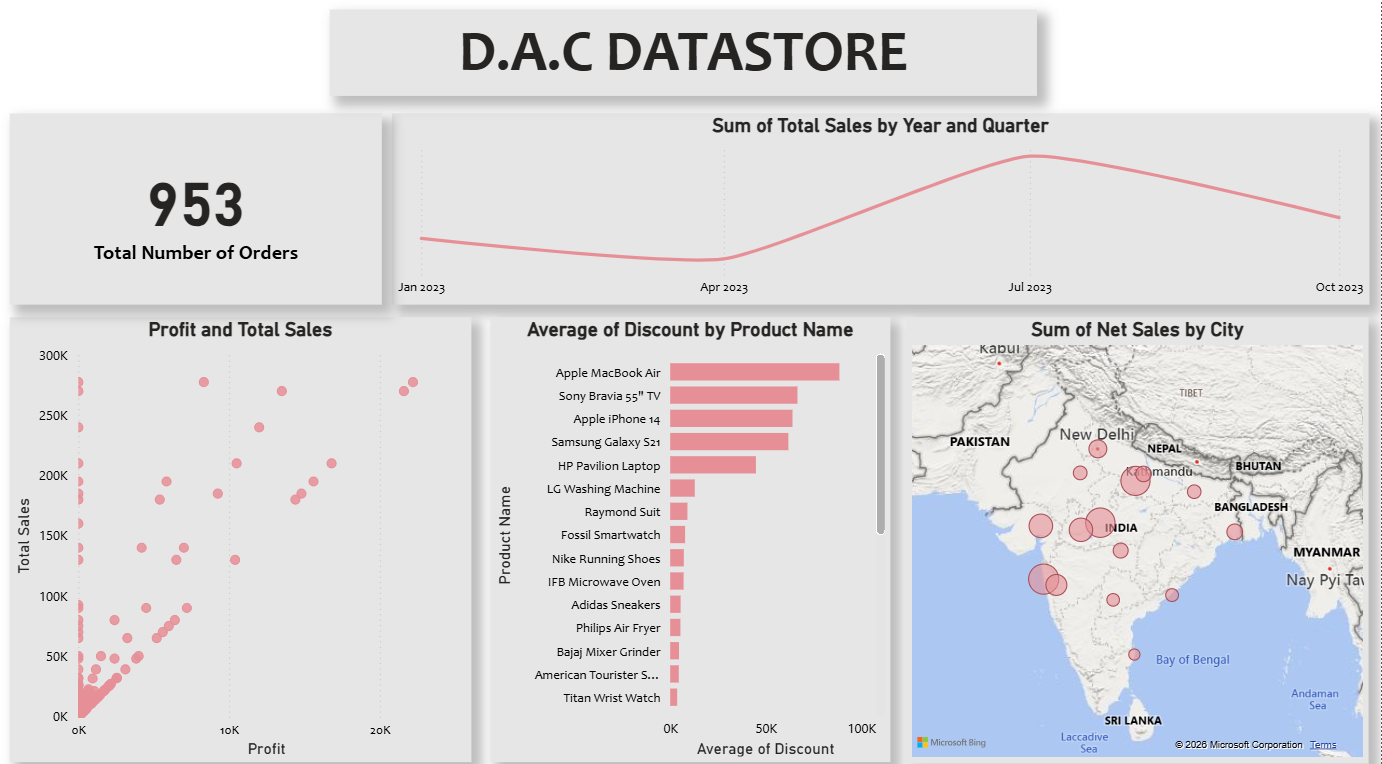

The page's visual inventory and layout, read from the dashboard file:
{"tool":"powerbi","page":{"name":"Market Overview","canvas":[1280,720],"ordinal":0},"visuals":[{"type":"lineChart","fields":{"Category":["Fact Table.Date (dd/mm/yyyy).Variation.Date Hierarchy.Year","Fact Table.Date (dd/mm/yyyy).Variation.Date Hierarchy.Quarter","Fact Table.Date (dd/mm/yyyy).Variation.Date Hierarchy.Month","Fact Table.Date (dd/mm/yyyy).Variation.Date Hierarchy.Day"],"Y":["Sum(Fact Table.Total Sales )"]},"box":[363.8,108.7,904.9,177.4],"z":0},{"type":"scatterChart","fields":{"X":["Fact Table.Profit"],"Y":["Fact Table.Total Sales "]},"box":[10.4,297.7,427.2,411.7],"z":1000},{"type":"barChart","fields":{"Category":["Dim Product.Product Name"],"Y":["Avg(Fact Table.Discount)"]},"box":[454.4,297.7,370.2,411.7],"z":2000},{"type":"map","fields":{"Category":["Dim Customers.City"],"Size":["Sum(Fact Table.Net Sales )"]},"box":[840.2,297.7,428.5,413],"z":3000},{"type":"card","fields":{"Values":["CountNonNull(Fact Table.Order ID)"]},"box":[10.4,108.7,344.4,177.4],"z":4000},{"type":"textbox","box":[306.8,12.9,655,80.3],"z":5000}]}

Visuals, with their boxes in screenshot pixels (x1, y1, x2, y2), scaled from the page's 1280x720 canvas onto the 1382x764 screenshot:
lineChart - Fact Table.Date (dd/mm/yyyy).Variation.Date Hierarchy.Year x Fact Table.Date (dd/mm/yyyy).Variation.Date Hierarchy.Quarter: <box>393,115,1370,304</box>
scatterChart - Fact Table.Profit x Fact Table.Total Sales : <box>11,316,472,753</box>
barChart - Dim Product.Product Name x Avg(Fact Table.Discount): <box>491,316,890,753</box>
map - Dim Customers.City x Sum(Fact Table.Net Sales ): <box>907,316,1370,754</box>
card - CountNonNull(Fact Table.Order ID): <box>11,115,383,304</box>
textbox: <box>331,14,1038,99</box>
